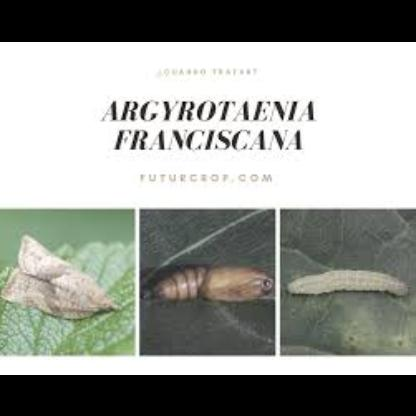oruga: (284, 258, 410, 300)
